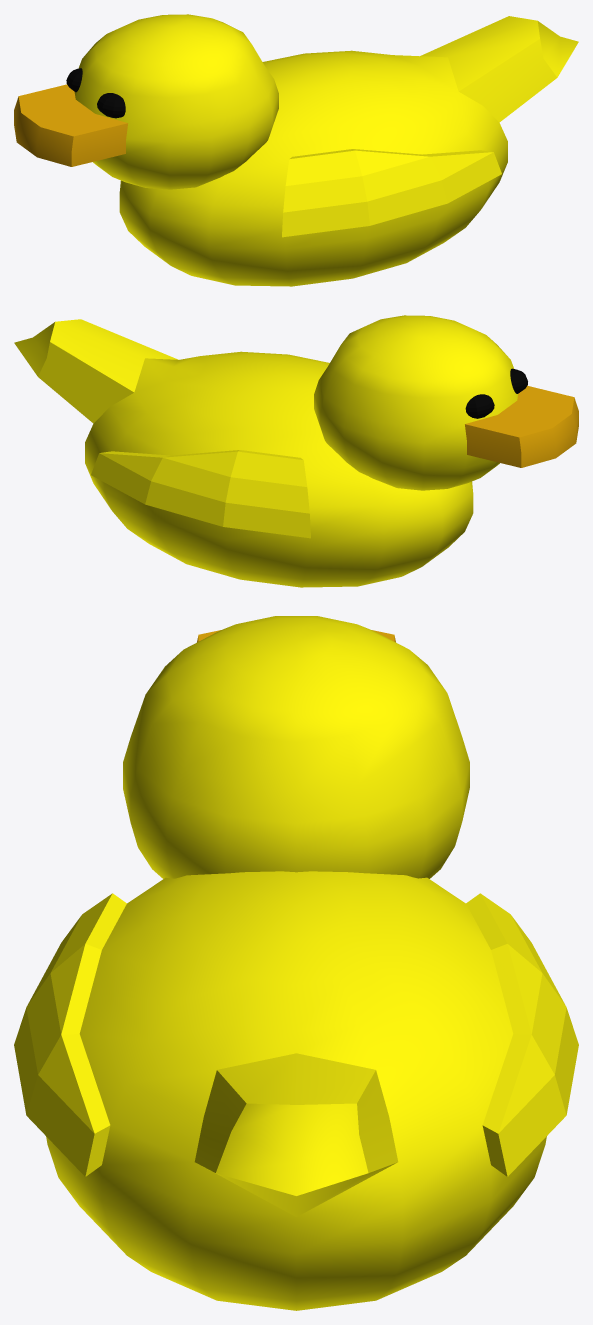
Rendered from RubberDuck.fbx.
3 renders of one model, top to bottom at view 1: azimuth 30°, elevation 25°; view 2: azimuth 150°, elevation 25°; view 3: azimuth 270°, elevation 25°, orthographic. The views are drawn at different scales.
Visible parts, largest first — view 1: pSphere1, pSphere2, pSphere4; view 2: pSphere1, pSphere2, pSphere3; view 3: pSphere1, pSphere2.
Boxes of the visible parts, box(x1,y1,x2,y2) form: pSphere1: box(119, 16, 578, 286); pSphere2: box(14, 14, 278, 189); pSphere4: box(97, 93, 125, 118); pSphere1: box(14, 319, 473, 587); pSphere2: box(314, 315, 578, 490); pSphere3: box(465, 394, 494, 418); pSphere1: box(14, 871, 578, 1310); pSphere2: box(123, 616, 469, 878).
Size of the model in its own units: 29.15 by 12.48 by 14.52.
